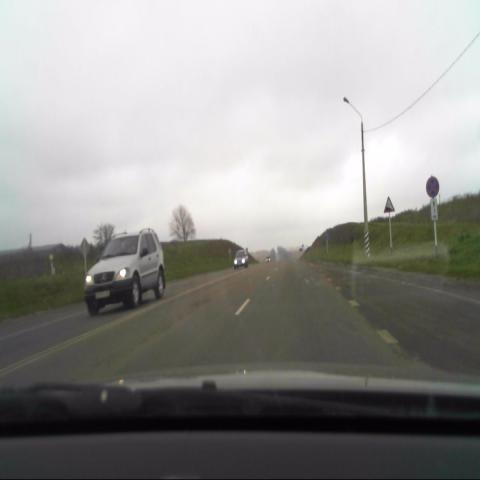1_13: (382, 195, 394, 215)
